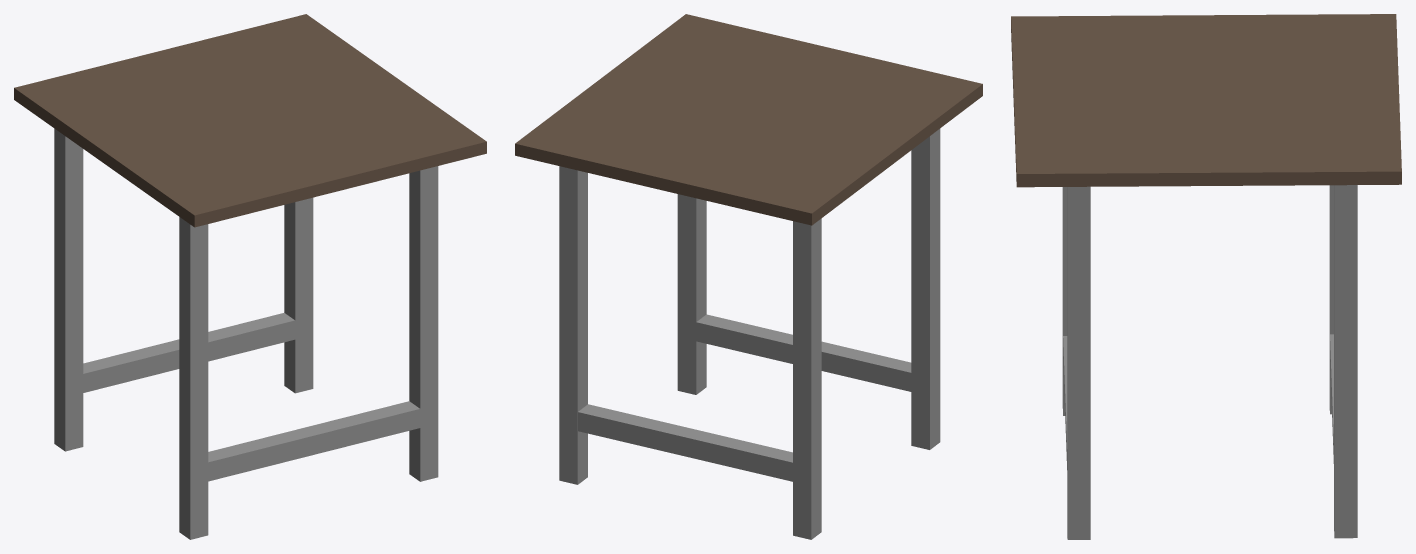
The model's file is Chair_9.fbx.
The picture shows the model from 3 angles, left to right: view 1: azimuth 30°, elevation 25°; view 2: azimuth 150°, elevation 25°; view 3: azimuth 270°, elevation 25°; orthographic projection. The views are drawn at different scales.
Visible parts, largest first — view 1: Chair_9; view 2: Chair_9; view 3: Chair_9.
Part boxes in pixels (x1,y1,x2,y2): Chair_9: (14,14,486,539); Chair_9: (515,14,982,539); Chair_9: (1011,14,1401,539).
Size of the model in its own units: 58.66 by 60.54 by 64.84.
